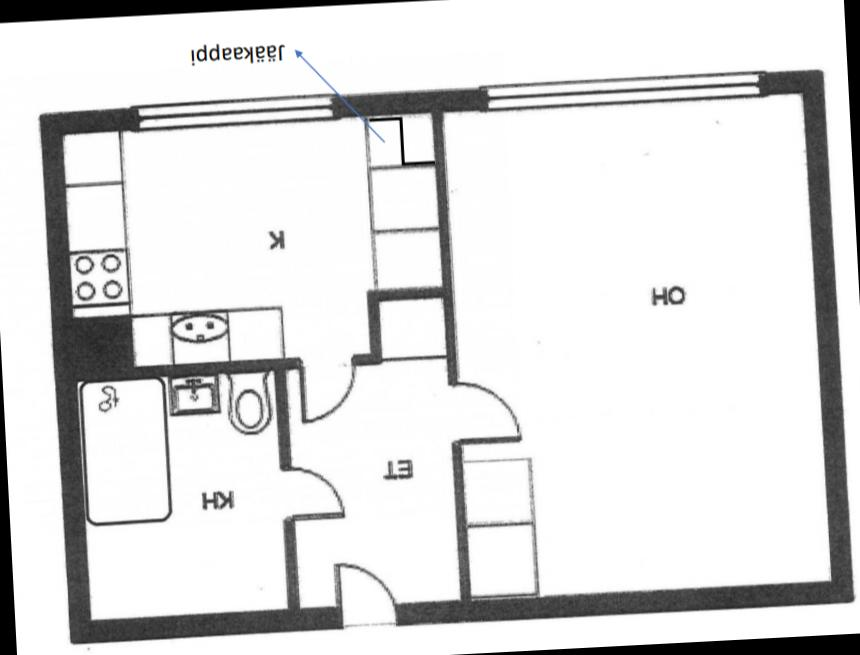door: (442, 370, 526, 452), (330, 553, 403, 635), (292, 351, 362, 430), (274, 456, 348, 528)
window: (472, 66, 772, 120), (121, 87, 348, 139)
